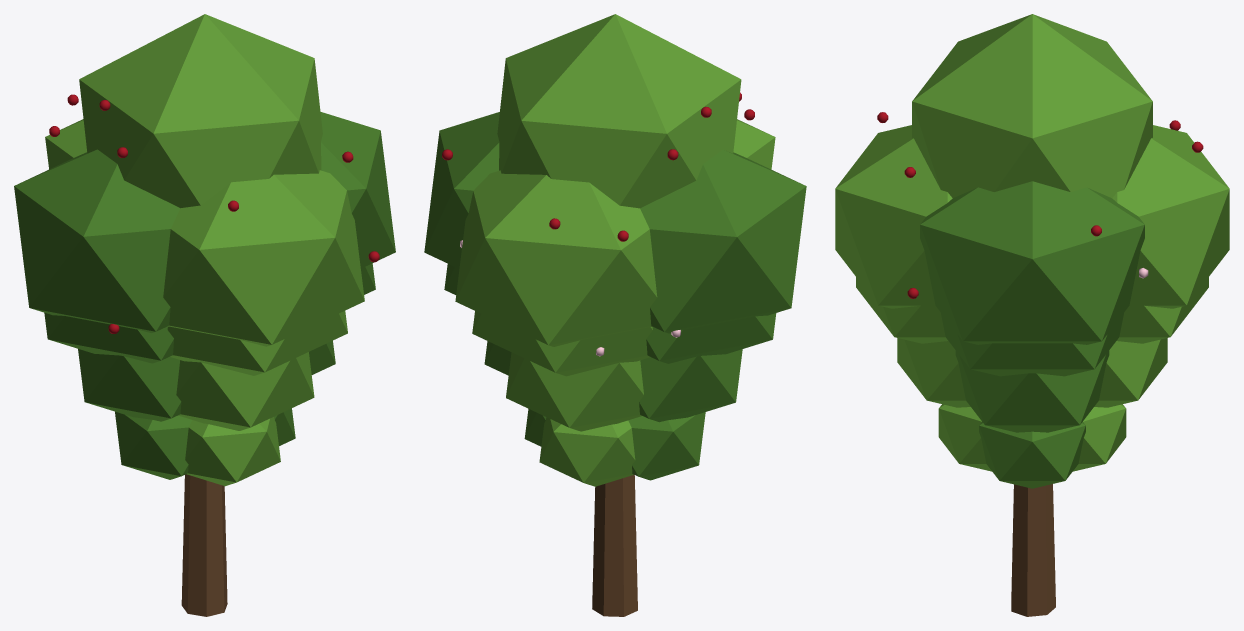
File: Crop_Fruit_Cherry.fbx
3 renders of one model, left to right at view 1: azimuth 30°, elevation 25°; view 2: azimuth 150°, elevation 25°; view 3: azimuth 270°, elevation 25°, orthographic.
Parts seen in each view (by area): view 1: Crop_Fruit_Cherry__S4, Crop_Fruit_Cherry__S2, Crop_Fruit_Cherry__S1, Crop_Fruit_Cherry__S3; view 2: Crop_Fruit_Cherry__S4, Crop_Fruit_Cherry__S2, Crop_Fruit_Cherry__S1, Crop_Fruit_Cherry__S3; view 3: Crop_Fruit_Cherry__S4, Crop_Fruit_Cherry__S2, Crop_Fruit_Cherry__S1, Crop_Fruit_Cherry__S3.
Boxes of the visible parts, left/top/right/bottom form: Crop_Fruit_Cherry__S4: left=14, top=14, right=395, bottom=616; Crop_Fruit_Cherry__S2: left=78, top=340, right=335, bottom=430; Crop_Fruit_Cherry__S1: left=115, top=408, right=295, bottom=486; Crop_Fruit_Cherry__S3: left=44, top=263, right=375, bottom=375; Crop_Fruit_Cherry__S4: left=424, top=14, right=806, bottom=616; Crop_Fruit_Cherry__S2: left=484, top=341, right=742, bottom=431; Crop_Fruit_Cherry__S1: left=524, top=409, right=705, bottom=486; Crop_Fruit_Cherry__S3: left=444, top=240, right=776, bottom=376; Crop_Fruit_Cherry__S4: left=835, top=14, right=1229, bottom=616; Crop_Fruit_Cherry__S2: left=897, top=338, right=1167, bottom=432; Crop_Fruit_Cherry__S1: left=938, top=404, right=1126, bottom=488; Crop_Fruit_Cherry__S3: left=856, top=268, right=1208, bottom=376.
Bounding box in the file's own units: 0.551 × 0.888 × 0.5353.
